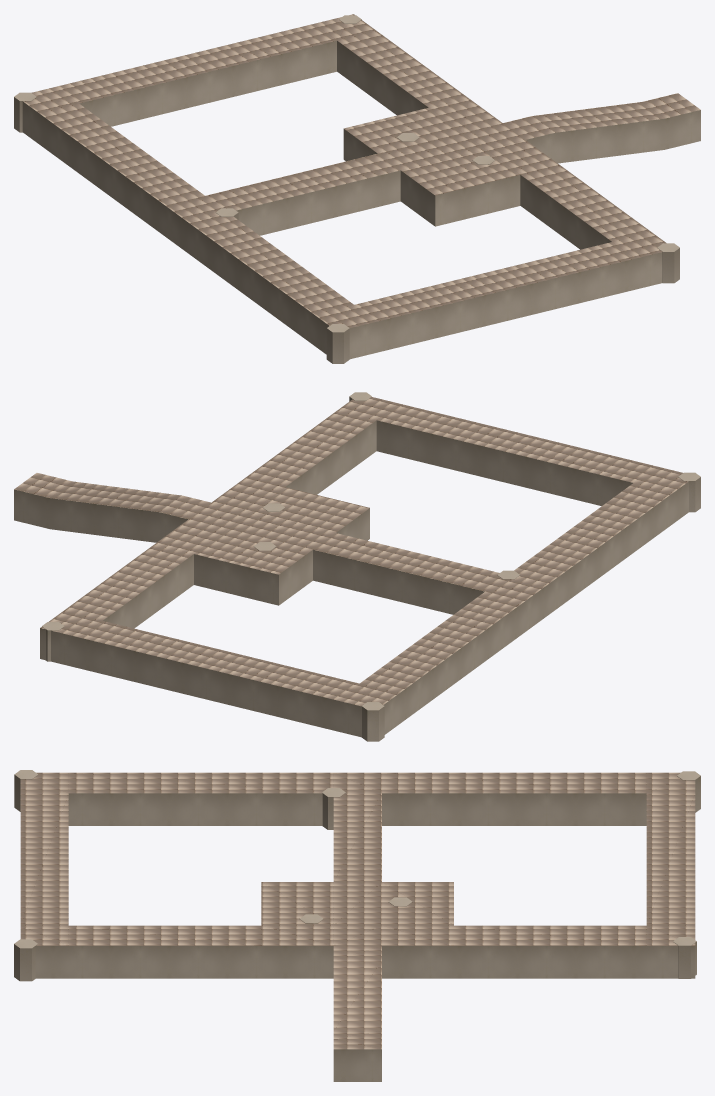
Rendered from OfficeSpace.glb.
3 views of the same model, one above another, from view 1: azimuth 30°, elevation 25°; view 2: azimuth 150°, elevation 25°; view 3: azimuth 270°, elevation 25° (orthographic). The views are drawn at different scales.
Visible parts, largest first — view 1: Ceiling, Cube, Pillar.001, Pilar; view 2: Ceiling, Cube, Pillar.004, Pillar.001; view 3: Ceiling, Cube, Pilar, Pillar.003, Pillar.005.
Part boxes in pixels (<box>): Ceiling: <box>23,14,700,327</box>; Cube: <box>22,40,700,359</box>; Pillar.001: <box>326,324,349,363</box>; Pilar: <box>657,243,679,283</box>; Ceiling: <box>14,397,688,706</box>; Cube: <box>14,420,688,737</box>; Pillar.004: <box>362,702,384,741</box>; Pillar.001: <box>678,472,700,512</box>; Ceiling: <box>20,772,695,1049</box>; Cube: <box>35,793,695,1081</box>; Pilar: <box>14,939,37,981</box>; Pillar.003: <box>673,937,696,978</box>; Pillar.005: <box>322,788,345,829</box>.
Size of the model in its own units: 52.15 by 4.25 by 57.04.
4 materials, 4 textured.
